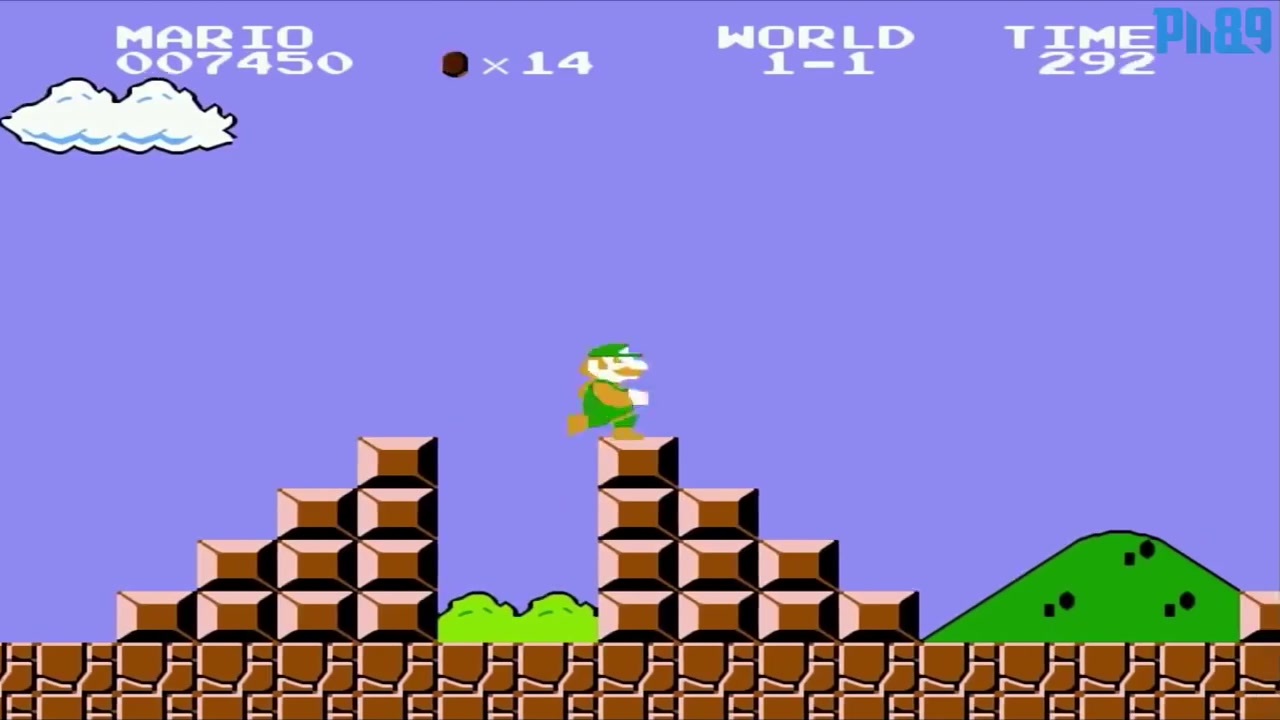mario: (556, 328, 653, 446)
